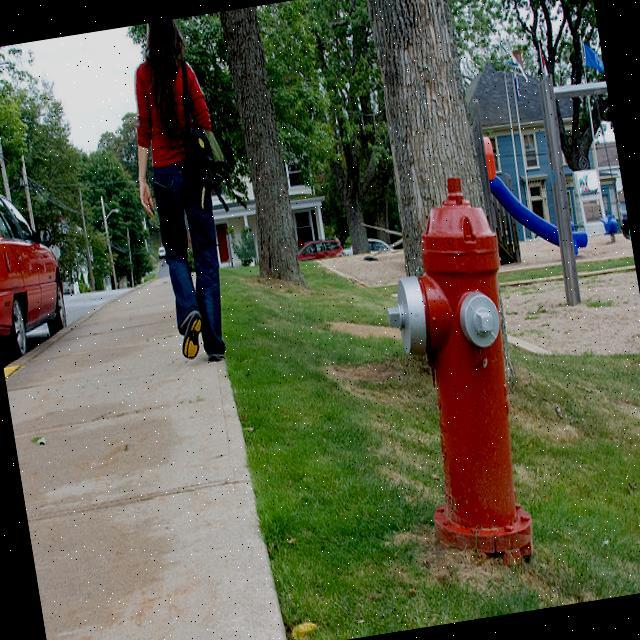fire_hydrant: (367, 170, 548, 572)
